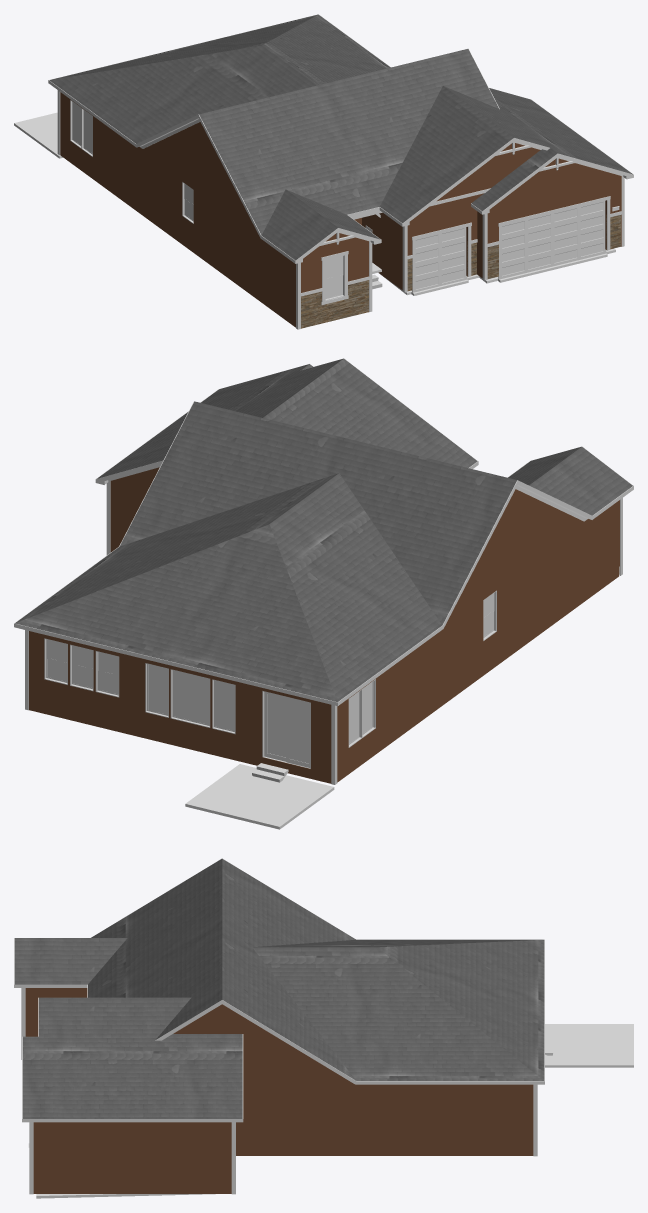
Rendered from 139-1851-dm-farmhouse.glb.
3 renders of one model, top to bottom at view 1: azimuth 30°, elevation 25°; view 2: azimuth 150°, elevation 25°; view 3: azimuth 270°, elevation 25°, orthographic. The views are drawn at different scales.
Parts seen in each view (by area): view 1: Basic Roof Wood Rafter 4" - Asphalt Shingle - Insulated_0363, Basic Roof Wood Rafter 4" - Asphalt Shingle - Insulated_4d66, Basic Roof Wood Rafter 4" - Asphalt Shingle - Insulated_a1fb, Basic Wall BSB Exterior - Stud_5.5" - Sheathing_0.5" - _146a, Basic Wall BSB Exterior - Stud_5.5" - Sheathing_0.5" - _ed29, Craftsman - BSB Exterior - Overhead Garage Door - Clopa_11e4, Basic Roof Wood Rafter 4" - Asphalt Shingle - Insulated_7878, Basic Wall BSB Exterior - Stud_1.5" - Sheathing_0.5" - _d879, Trim - All Farmhouse Trim - All Farmhouse [3364640], Basic Wall BSB Exterior - Stud_3.5" - Sheathing_0.5" - _8302, Craftsman - BSB Exterior - Overhead Garage Door - Clopa_3a14, Basic Wall BSB Exterior - Stud_1.5" - Sheathing_0.5" - _2525 (+19 smaller); view 2: Basic Roof Wood Rafter 4" - Asphalt Shingle - Insulated_4d66, Basic Roof Wood Rafter 4" - Asphalt Shingle - Insulated_0363, Basic Wall BSB Exterior - Stud_5.5" - Sheathing_0.5" - _5f6d, Basic Roof Wood Rafter 4" - Asphalt Shingle - Insulated_a1fb, Basic Wall BSB Exterior - Stud_5.5" - Sheathing_0.5" - _146a, Basic Wall BSB Exterior - Stud_5.5" - Sheathing_0.5" - _ed29, Floor BSB Concrete Slab - 4" - Slope Option [3004667], Basic Wall BSB Exterior - Stud_1.5" - Sheathing_0.5" - _d879, Basic Roof Wood Rafter 4" - Asphalt Shingle - Insulated_7878, BSB Exterior - SGD XO - 1-Lite 6080 [3004582], Basic Wall BSB Exterior - Stud_5.5" - Sheathing_0.5" - _f2a0, Fascia Fascia-Flat 1x6 w/ 12" Soffit Bd [3552427] (+12 smaller); view 3: Basic Roof Wood Rafter 4" - Asphalt Shingle - Insulated_4d66, Basic Roof Wood Rafter 4" - Asphalt Shingle - Insulated_0363, Basic Roof Wood Rafter 4" - Asphalt Shingle - Insulated_a1fb, Basic Wall BSB Exterior - Stud_5.5" - Sheathing_0.5" - _0ba8, Basic Wall BSB Exterior - Stud_3.5" - Sheathing_0.5" - _0d08, Basic Wall BSB Exterior - Stud_3.5" - Sheathing_0.5" - _217e, Basic Wall BSB Exterior - Stud_1.5" - Sheathing_0.5" - _6236, Basic Roof Wood Rafter 4" - Asphalt Shingle - Insulated_7878, Floor BSB Concrete Slab - 4" - Slope Option [3004667], Basic Wall BSB Exterior - Stud_3.5" - Sheathing_0.5" - _7c52, Fascia Fascia-Flat 1x6 w/ 12" Soffit Bd [3554949], Trim - All Farmhouse Trim - All Farmhouse [3364640] (+5 smaller).
Boxes of the visible parts, x1,y1,x2,y2 form: Basic Roof Wood Rafter 4" - Asphalt Shingle - Insulated_0363: (199, 49, 498, 235); Basic Roof Wood Rafter 4" - Asphalt Shingle - Insulated_4d66: (49, 14, 390, 143); Basic Roof Wood Rafter 4" - Asphalt Shingle - Insulated_a1fb: (380, 86, 632, 223); Basic Wall BSB Exterior - Stud_5.5" - Sheathing_0.5" - _146a: (168, 164, 267, 306); Basic Wall BSB Exterior - Stud_5.5" - Sheathing_0.5" - _ed29: (60, 92, 168, 233); Craftsman - BSB Exterior - Overhead Garage Door - Clopa_11e4: (498, 201, 606, 279); Basic Roof Wood Rafter 4" - Asphalt Shingle - Insulated_7878: (261, 189, 380, 260); Basic Wall BSB Exterior - Stud_1.5" - Sheathing_0.5" - _d879: (146, 122, 254, 226); Trim - All Farmhouse Trim - All Farmhouse [3364640]: (57, 90, 624, 329); Basic Wall BSB Exterior - Stud_3.5" - Sheathing_0.5" - _8302: (487, 176, 620, 249); Craftsman - BSB Exterior - Overhead Garage Door - Clopa_3a14: (412, 227, 467, 292); Basic Wall BSB Exterior - Stud_1.5" - Sheathing_0.5" - _2525: (492, 158, 621, 207); Basic Roof Wood Rafter 4" - Asphalt Shingle - Insulated_4d66: (15, 473, 442, 701); Basic Roof Wood Rafter 4" - Asphalt Shingle - Insulated_0363: (120, 401, 517, 624); Basic Wall BSB Exterior - Stud_5.5" - Sheathing_0.5" - _5f6d: (29, 631, 331, 783); Basic Roof Wood Rafter 4" - Asphalt Shingle - Insulated_a1fb: (97, 358, 477, 478); Basic Wall BSB Exterior - Stud_5.5" - Sheathing_0.5" - _146a: (466, 520, 585, 687); Basic Wall BSB Exterior - Stud_5.5" - Sheathing_0.5" - _ed29: (337, 604, 466, 782); Floor BSB Concrete Slab - 4" - Slope Option [3004667]: (185, 764, 334, 829); Basic Wall BSB Exterior - Stud_1.5" - Sheathing_0.5" - _d879: (451, 489, 579, 614); Basic Roof Wood Rafter 4" - Asphalt Shingle - Insulated_7878: (508, 446, 632, 515); BSB Exterior - SGD XO - 1-Lite 6080 [3004582]: (262, 691, 310, 768); Basic Wall BSB Exterior - Stud_5.5" - Sheathing_0.5" - _f2a0: (585, 506, 612, 600); Fascia Fascia-Flat 1x6 w/ 12" Soffit Bd [3552427]: (14, 547, 443, 706); Basic Roof Wood Rafter 4" - Asphalt Shingle - Insulated_4d66: (252, 939, 544, 1080); Basic Roof Wood Rafter 4" - Asphalt Shingle - Insulated_0363: (88, 858, 355, 1080); Basic Roof Wood Rafter 4" - Asphalt Shingle - Insulated_a1fb: (22, 997, 242, 1118); Basic Wall BSB Exterior - Stud_5.5" - Sheathing_0.5" - _0ba8: (236, 1080, 533, 1155); Basic Wall BSB Exterior - Stud_3.5" - Sheathing_0.5" - _0d08: (96, 1122, 165, 1193); Basic Wall BSB Exterior - Stud_3.5" - Sheathing_0.5" - _217e: (165, 1122, 231, 1193); Basic Wall BSB Exterior - Stud_1.5" - Sheathing_0.5" - _6236: (173, 1004, 347, 1080); Basic Roof Wood Rafter 4" - Asphalt Shingle - Insulated_7878: (14, 938, 127, 984); Floor BSB Concrete Slab - 4" - Slope Option [3004667]: (545, 1024, 633, 1067); Basic Wall BSB Exterior - Stud_3.5" - Sheathing_0.5" - _7c52: (55, 1122, 95, 1193); Fascia Fascia-Flat 1x6 w/ 12" Soffit Bd [3554949]: (22, 997, 356, 1122); Trim - All Farmhouse Trim - All Farmhouse [3364640]: (21, 988, 537, 1194).
Bounding box in the file's own units: 15.89 × 6.88 × 23.18.
3 materials, 2 textured.
